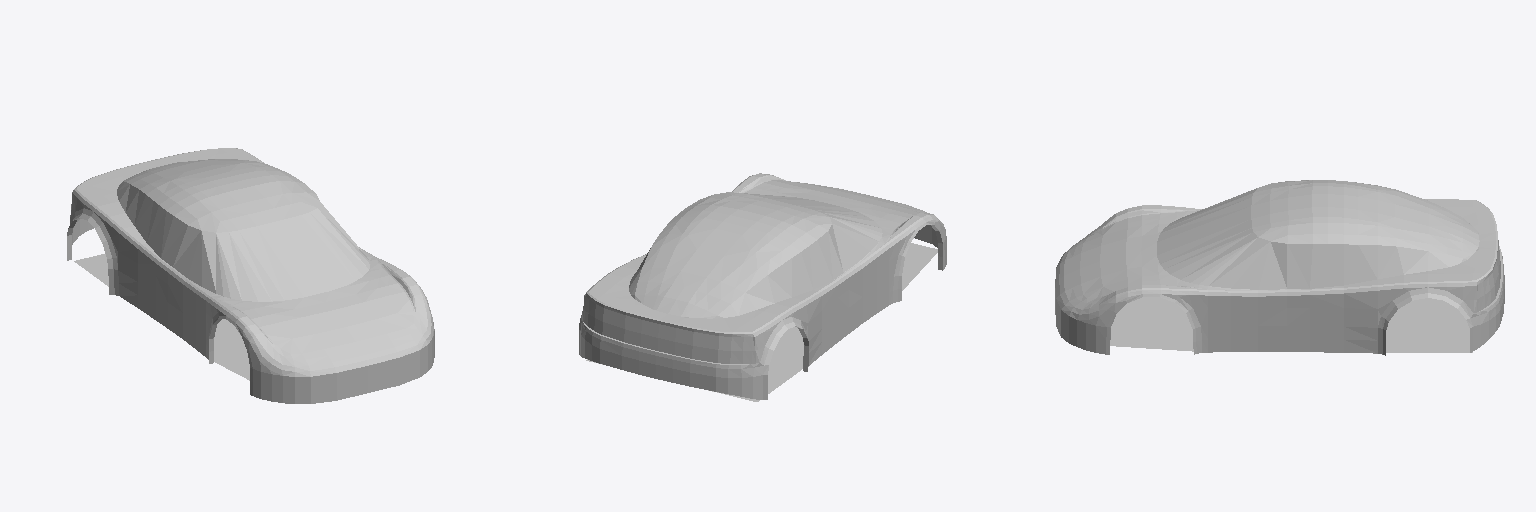
File: car_v3.obj
The picture shows the model from 3 angles: view 1: azimuth 30°, elevation 25°; view 2: azimuth 150°, elevation 25°; view 3: azimuth 270°, elevation 25°; orthographic projection.
Parts seen in each view (by area): view 1: car_Circle.001; view 2: car_Circle.001; view 3: car_Circle.001.
Boxes of the visible parts, <box> form: car_Circle.001: <box>67,148,434,403</box>; car_Circle.001: <box>579,173,946,401</box>; car_Circle.001: <box>1055,180,1504,355</box>.
Size of the model in its own units: 1.77 by 0.9856 by 3.63.